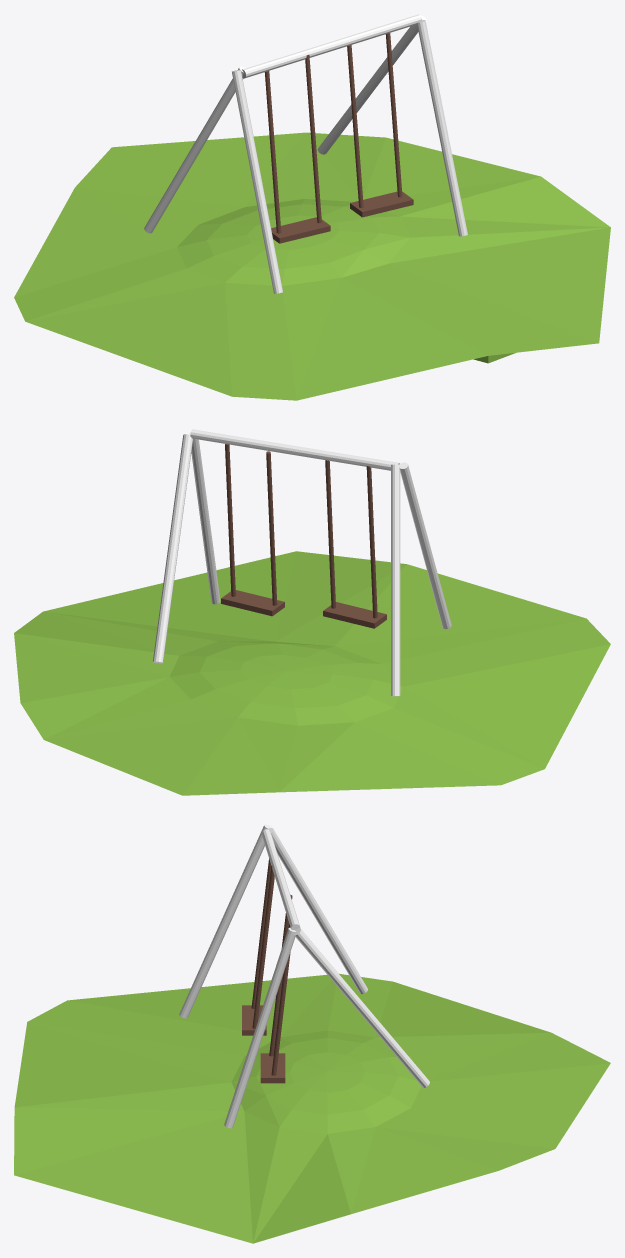
File: swing.glb
3 views of the same model, one above another, from view 1: azimuth 30°, elevation 25°; view 2: azimuth 150°, elevation 25°; view 3: azimuth 270°, elevation 25° (orthographic).
Parts seen in each view (by area): view 1: group315127673, group944013505, group1138983508, group1233146183, group709965864, group411126013, group406706228, group15147113, group760178107, group994404663, group951784513, group1632045447; view 2: group315127673, group411126013, group709965864, group1233146183, group944013505, group1138983508, group406706228, group15147113, group1632045447, group994404663, group951784513, group760178107; view 3: group315127673, group1138983508, group411126013, group944013505, group709965864, group1233146183, group760178107, group406706228, group994404663, group951784513.
Boxes of the visible parts, x1,y1,x2,y2 form: group315127673: (14,132,610,400); group944013505: (232,70,282,293); group1138983508: (417,20,467,236); group1233146183: (242,14,422,78); group709965864: (144,66,245,233); group411126013: (317,15,426,154); group406706228: (350,191,413,217); group15147113: (271,217,330,243); group760178107: (305,54,321,223); group994404663: (385,33,402,197); group951784513: (264,71,281,233); group1632045447: (347,45,363,207); group315127673: (14,551,610,795); group411126013: (153,434,192,663); group709965864: (391,464,400,696); group1233146183: (190,429,399,470); group944013505: (399,462,451,629); group1138983508: (189,432,220,604); group406706228: (221,590,284,616); group15147113: (323,602,386,628); group1632045447: (266,451,277,605); group994404663: (225,444,235,596); group951784513: (366,466,377,618); group760178107: (325,460,335,608); group315127673: (14,973,610,1243); group1138983508: (224,927,295,1128); group411126013: (293,928,429,1087); group944013505: (179,824,272,1018); group709965864: (268,828,367,994); group1233146183: (261,829,300,930); group760178107: (252,865,274,1028); group406706228: (260,1053,285,1083); group994404663: (271,924,290,1075); group951784513: (251,858,271,1008).
Size of the model in its own units: 5.3 by 2.32 by 5.08.
